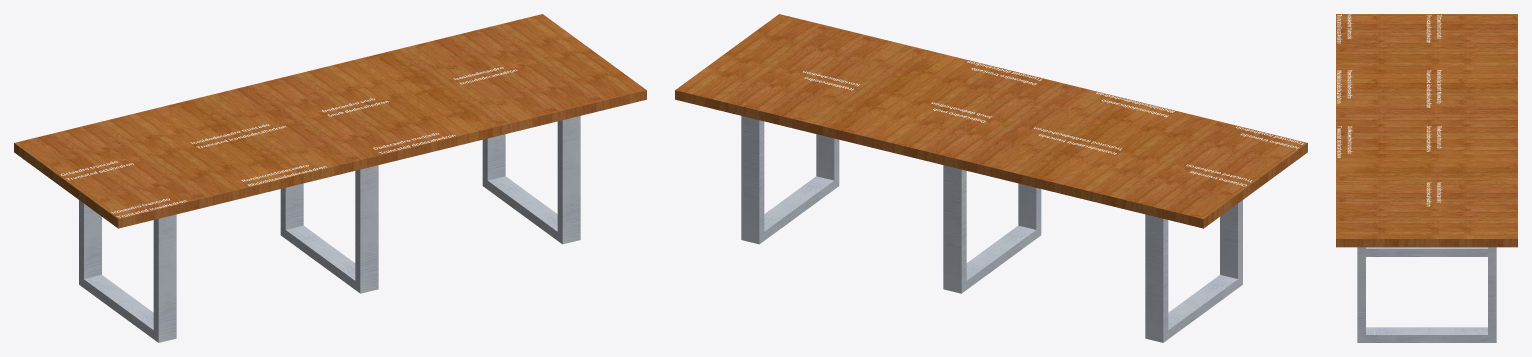
Rendered from mesa_Arquimedes1.glb.
The picture shows the model from 3 angles, left to right: view 1: azimuth 30°, elevation 25°; view 2: azimuth 150°, elevation 25°; view 3: azimuth 270°, elevation 25°; orthographic projection. The views are drawn at different scales.
Visible parts, largest first — view 1: object 1, Composant#1 (×3); view 2: object 1, Composant#1 (×3); view 3: object 1, Composant#1 (×2), Icosidodecaedro, Rombicosidodecae, Dodecaedro trunc, Octaedro truncad, Icosaedro trunca, Dodecaedro snub, Icosidodecaedro #1.
Part boxes in pixels (left/top/right/bottom): object 1: left=14, top=14, right=646, bottom=228; Composant#1 (×3): left=79, top=116, right=580, bottom=342; object 1: left=675, top=14, right=1307, bottom=228; Composant#1 (×3): left=741, top=116, right=1242, bottom=342; object 1: left=1336, top=14, right=1517, bottom=247; Composant#1 (×2): left=1357, top=247, right=1496, bottom=342; Icosidodecaedro: left=1426, top=70, right=1441, bottom=107; Rombicosidodecae: left=1337, top=70, right=1352, bottom=103; Dodecaedro trunc: left=1337, top=126, right=1352, bottom=157; Octaedro truncad: left=1426, top=15, right=1441, bottom=42; Icosaedro trunca: left=1337, top=14, right=1352, bottom=43; Dodecaedro snub: left=1426, top=126, right=1441, bottom=151; Icosidodecaedro #1: left=1426, top=182, right=1441, bottom=206.
Bounding box in the file's own units: 2.93 × 0.771 × 1.
3 materials, 2 textured.
